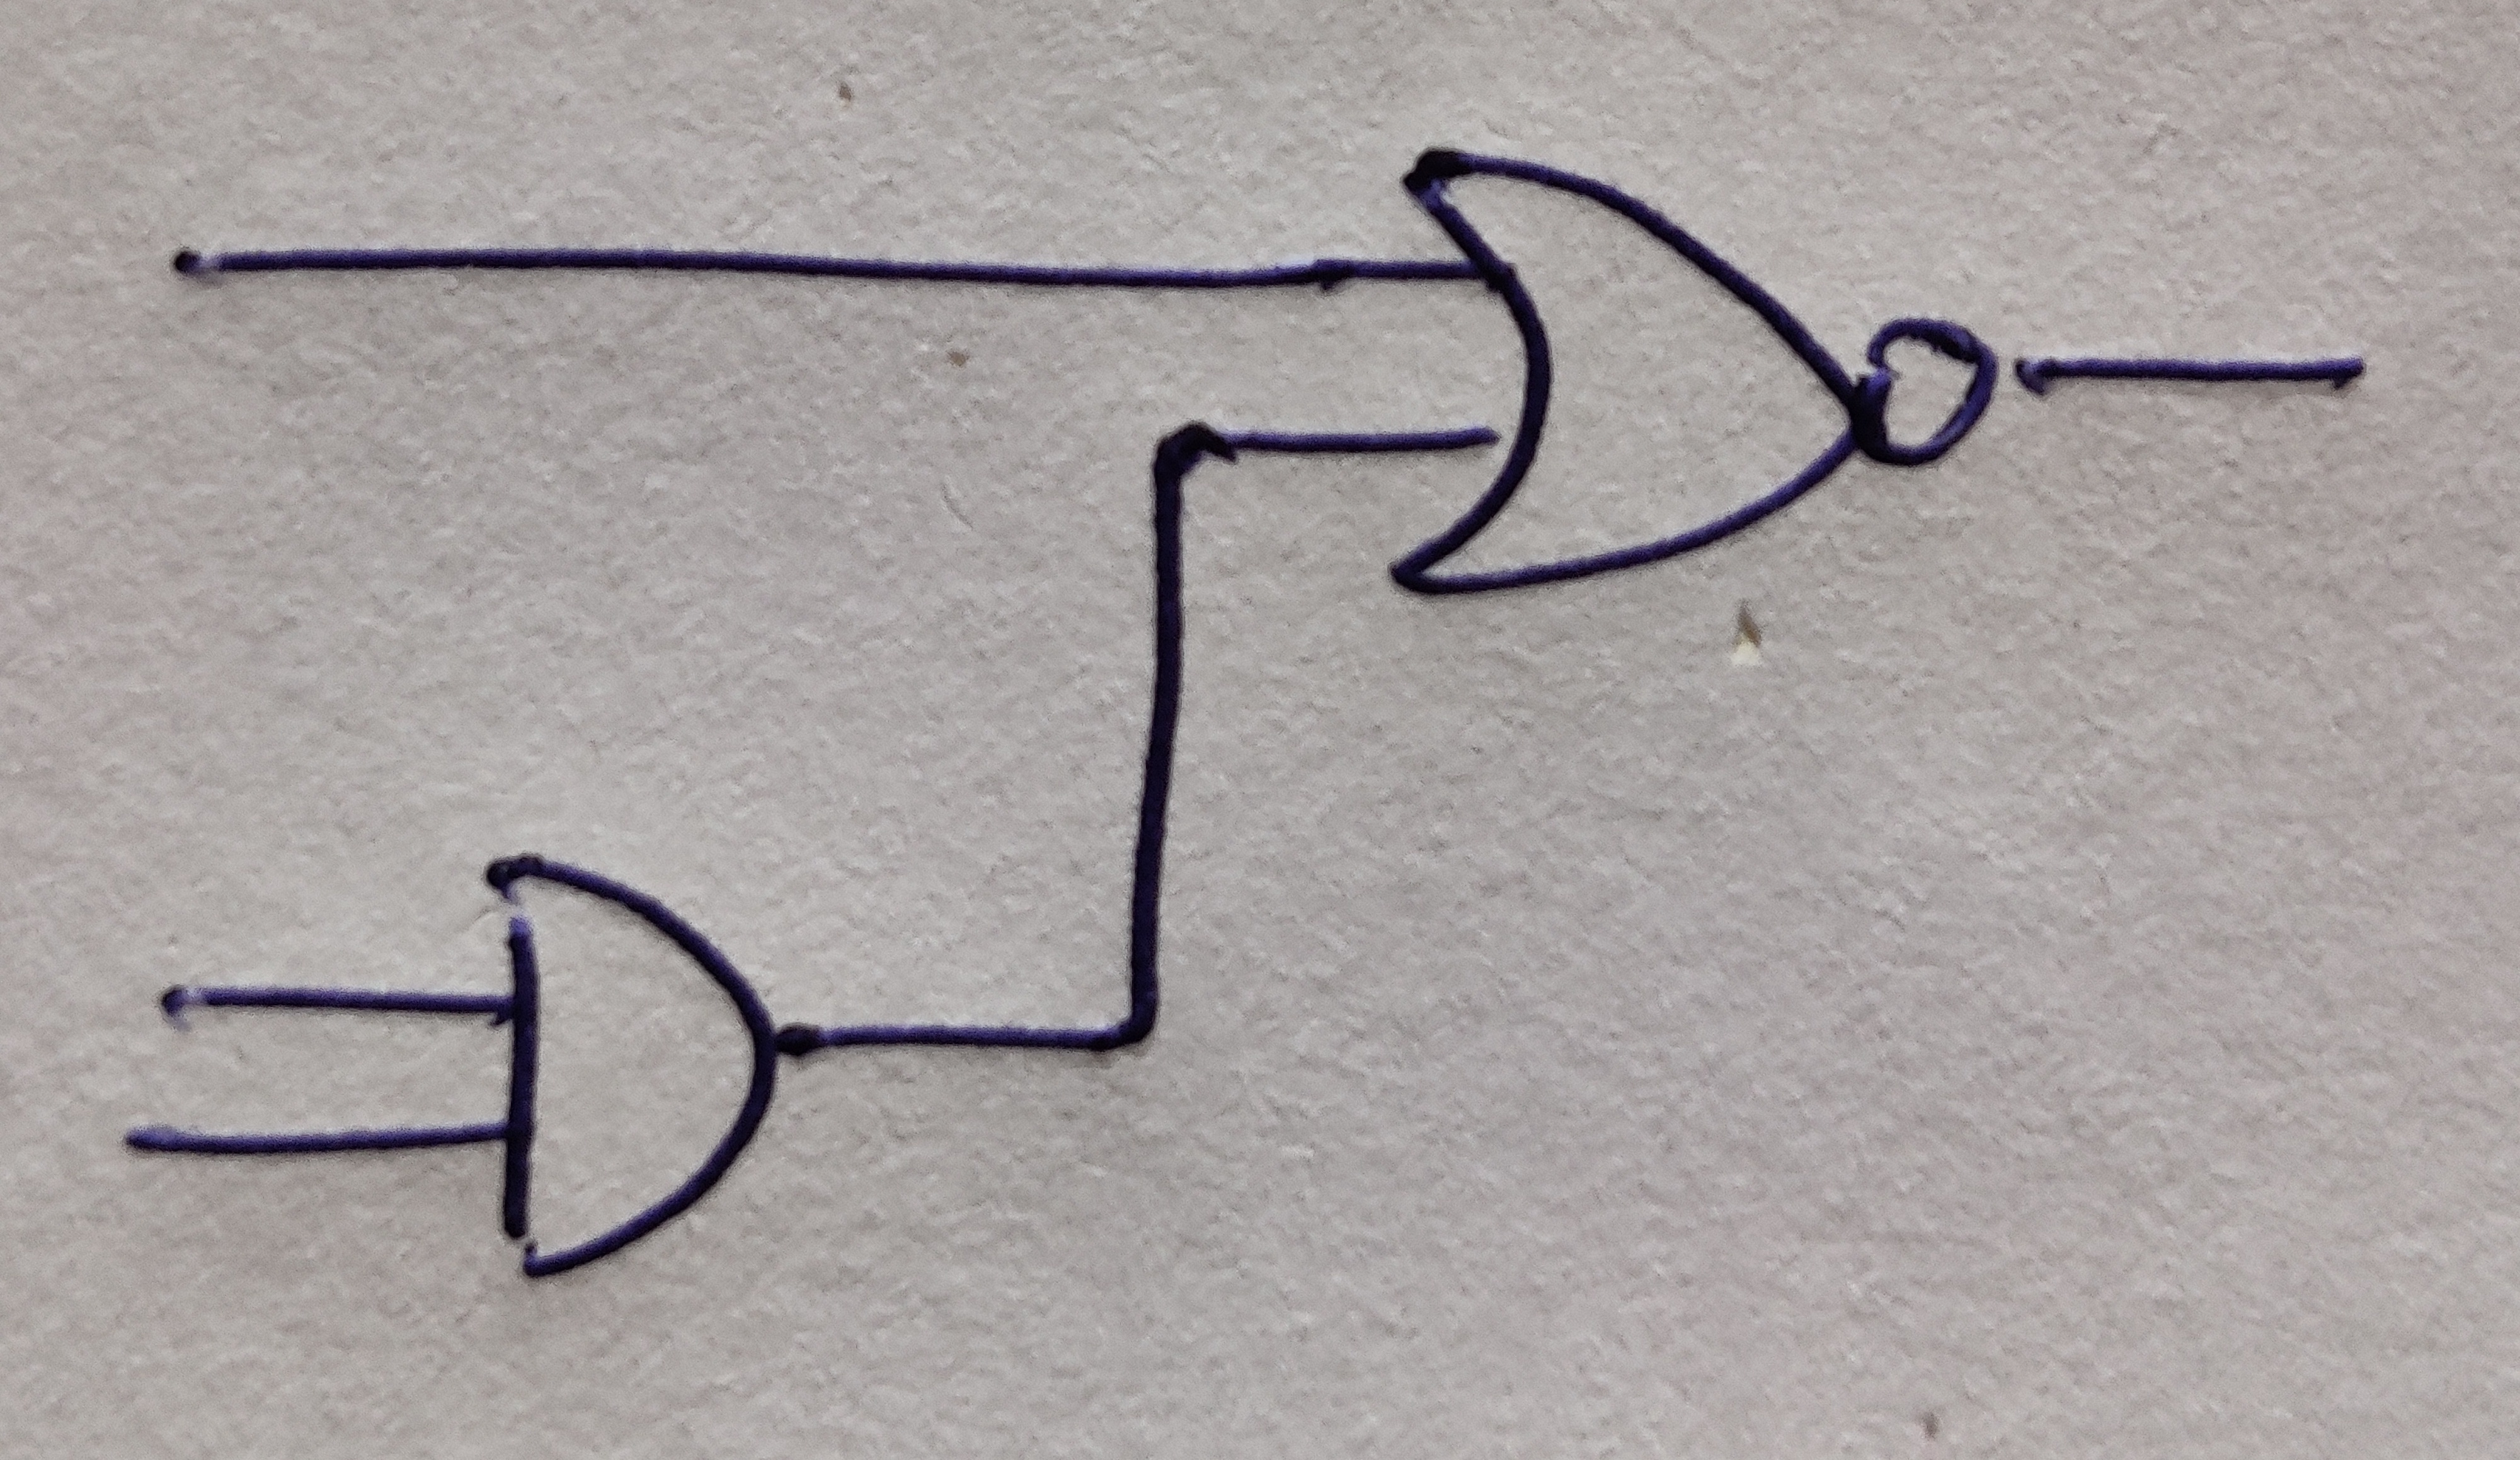and: (487, 853, 779, 1283)
not: (1856, 320, 1997, 468)
or: (1389, 146, 1858, 598)
